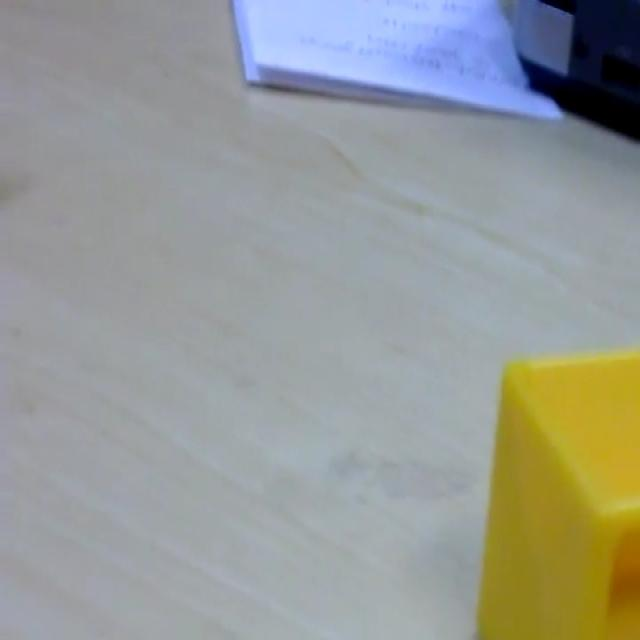yellow_block: (476, 345, 638, 636)
